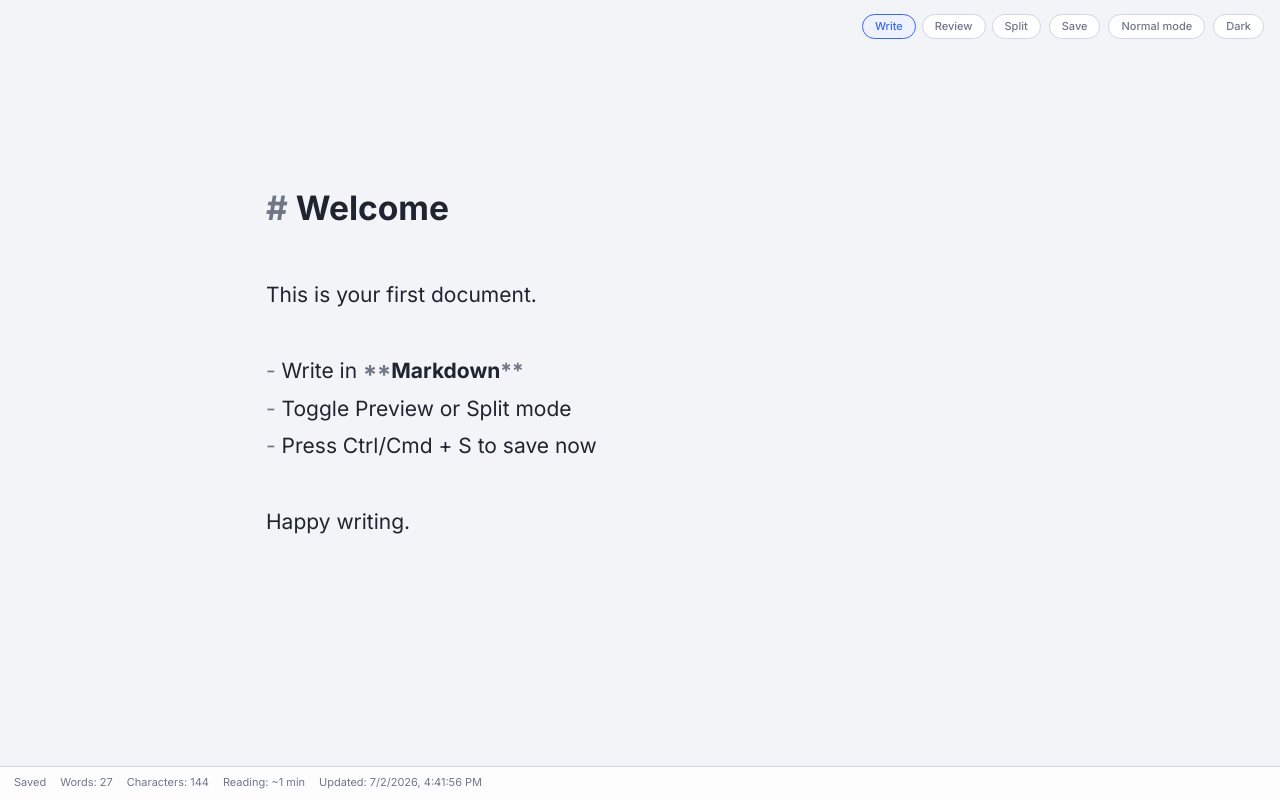
App — focus mode toggle › re-enters focus mode when Calm mode clicked
The width and height of the screenshot is (1280, 800).
Click the button "Normal mode" at (1157, 26), box 1108,14 -> 1205,39
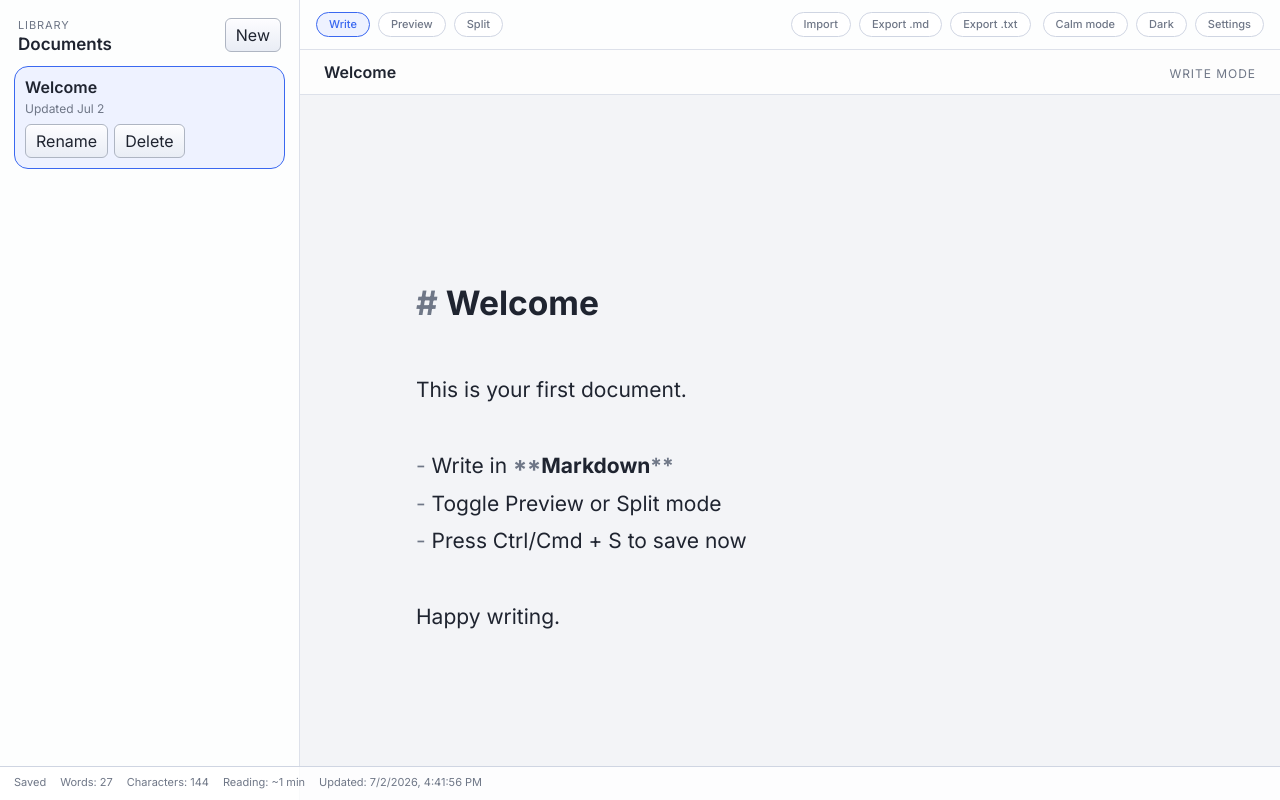
Click the button "Calm mode" at (1085, 24), box 1043,12 -> 1128,37
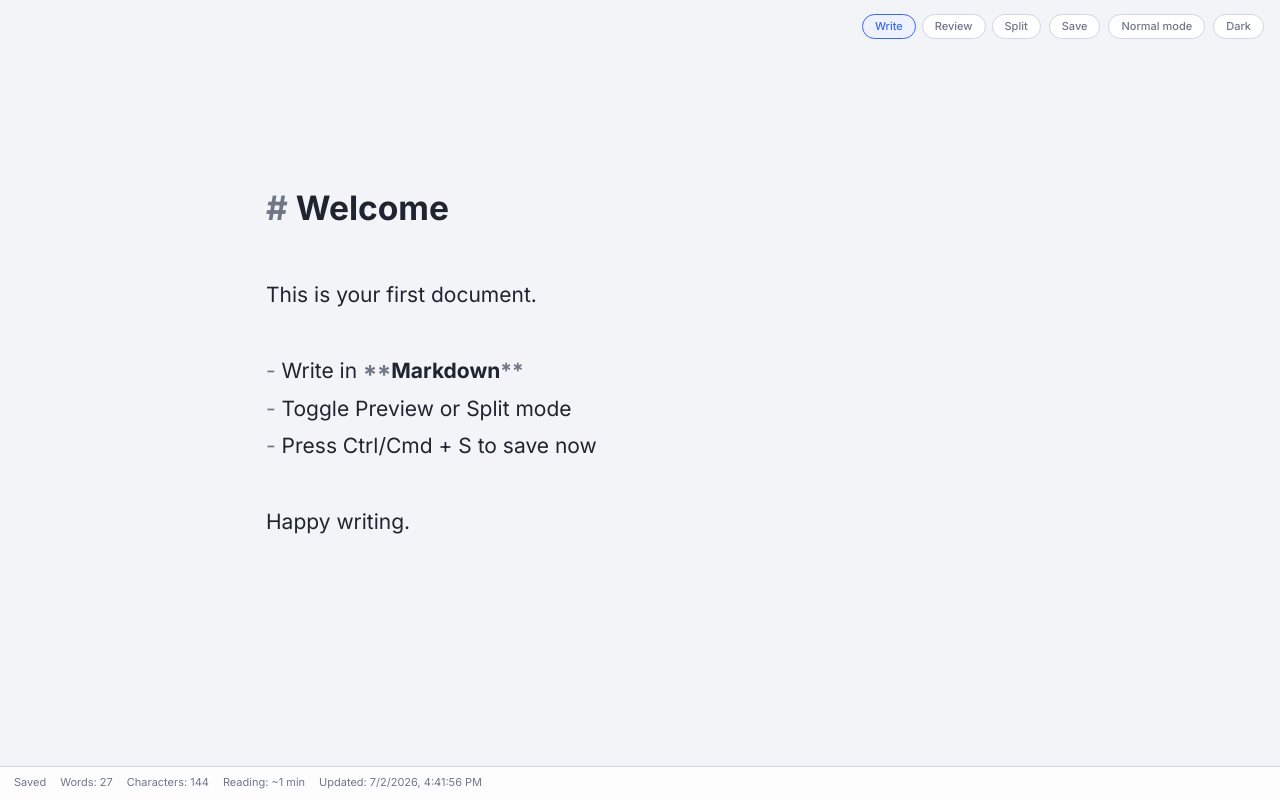
Check: the button "Normal mode" is shown, box 1108,14 -> 1205,39
